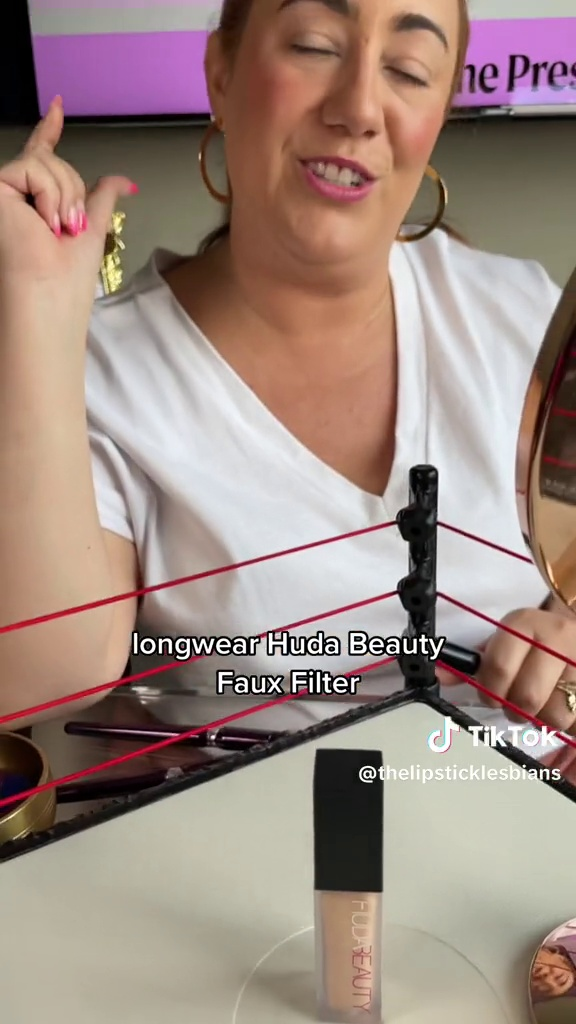train' :'yolo_data/train/images',: (300, 739, 391, 1023)
